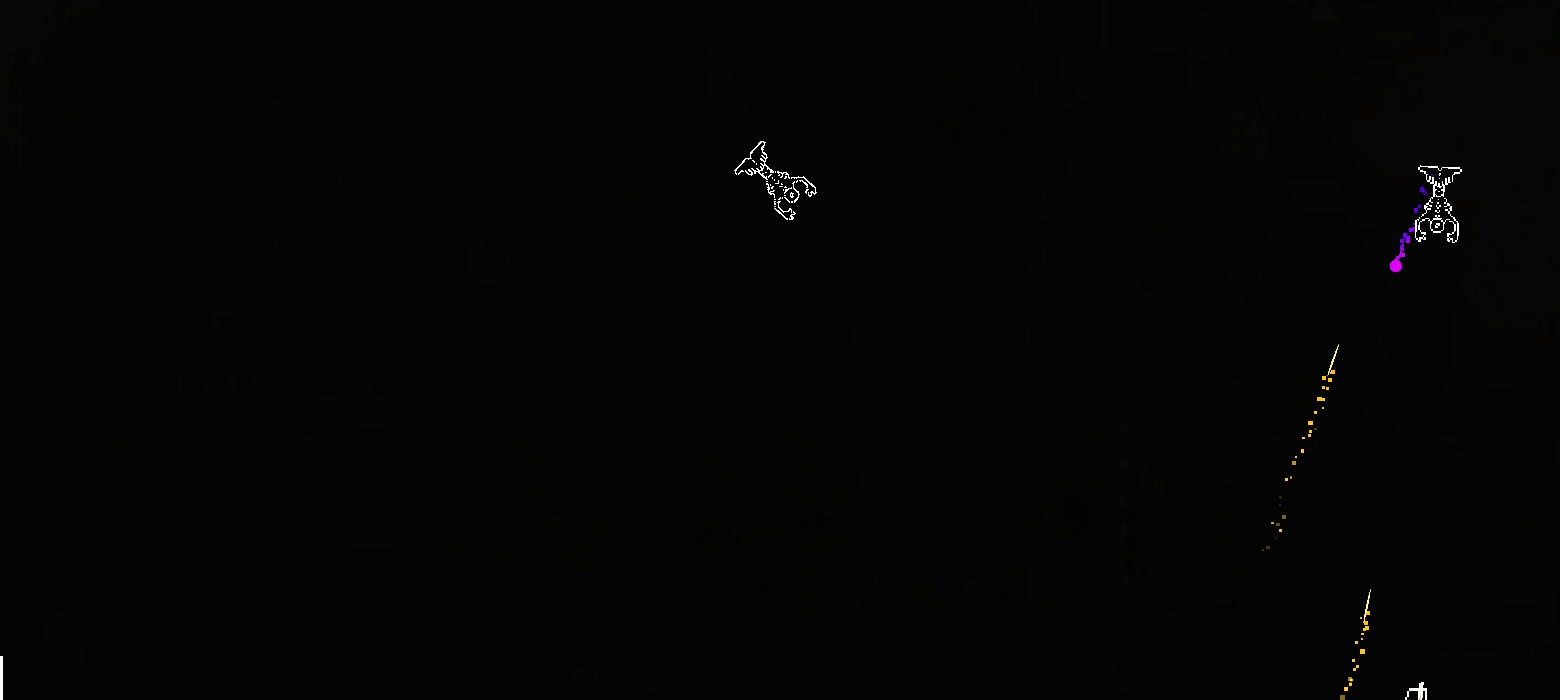enemy: (734, 141, 817, 221), (1415, 165, 1462, 243)
